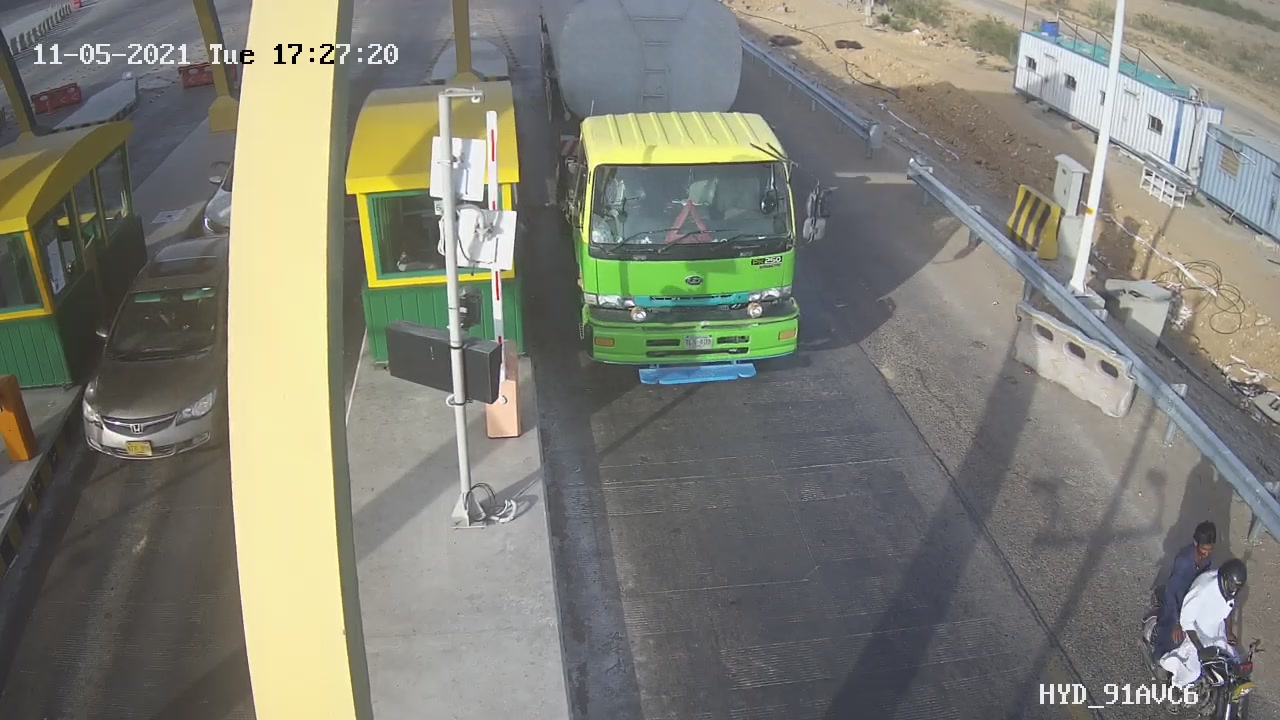F6: (517, 1, 856, 422)
